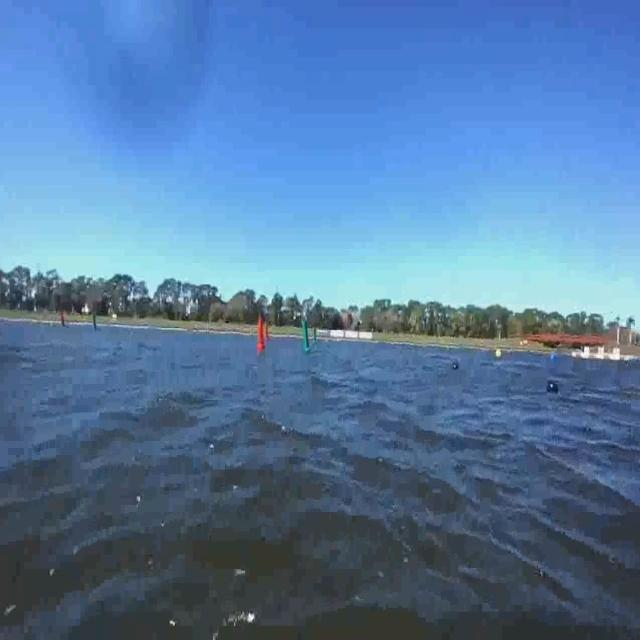black-buoy: (548, 376, 561, 392), (453, 360, 460, 368)
blue-buoy: (552, 352, 558, 363)
green-column-buoy: (302, 320, 312, 352), (92, 312, 100, 332), (314, 327, 318, 341)
red-column-buoy: (258, 318, 266, 349), (60, 309, 68, 329), (266, 324, 272, 343)
yellow-buoy: (494, 347, 502, 361)
